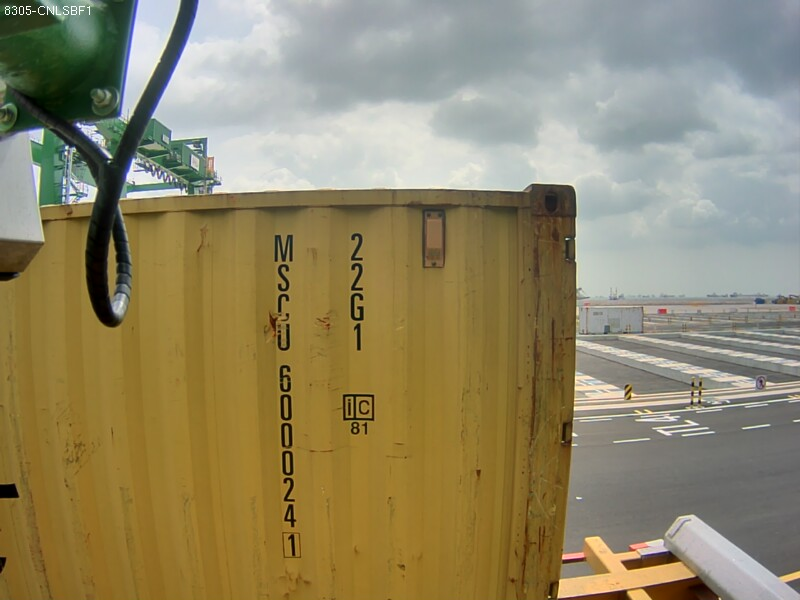container_no_door: (165, 174, 584, 599)
